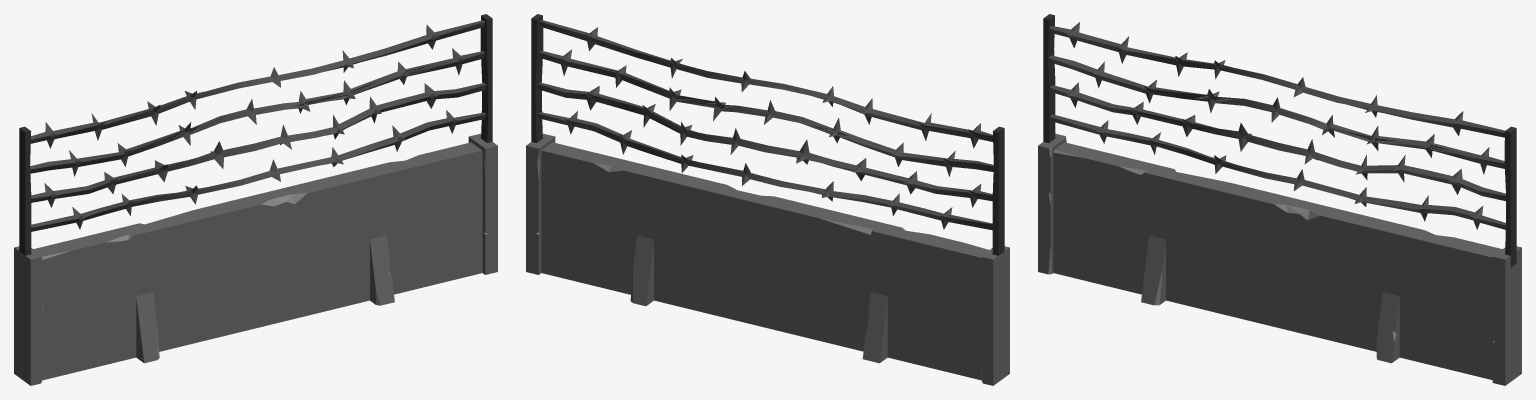
File: 20C_IronFence2_100.fbx
3 renders of one model, left to right at view 1: azimuth 30°, elevation 25°; view 2: azimuth 150°, elevation 25°; view 3: azimuth 330°, elevation 25°, orthographic.
Parts seen in each view (by area): view 1: 20C_IronFence2_100; view 2: 20C_IronFence2_100; view 3: 20C_IronFence2_100.
Part boxes in pixels (x1,y1,x2,y2): 20C_IronFence2_100: (14, 14, 497, 385); 20C_IronFence2_100: (526, 14, 1009, 385); 20C_IronFence2_100: (1038, 14, 1521, 385).
Bounding box in the file's own units: 40 × 20.51 × 4.03.
